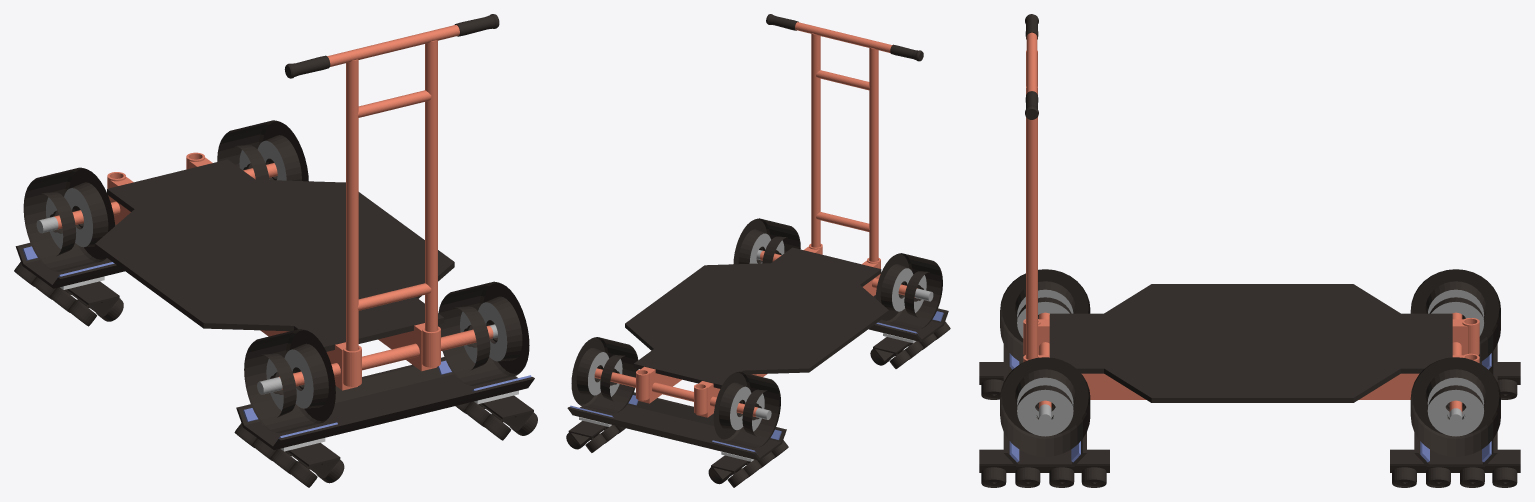
Rendered from dolly.fbx.
The picture shows the model from 3 angles, left to right: view 1: azimuth 30°, elevation 25°; view 2: azimuth 150°, elevation 25°; view 3: azimuth 270°, elevation 25°; orthographic projection. The views are drawn at different scales.
Visible parts, largest first — view 1: Plane.001, Cube.001, Circle, Circle.004, Circle.009, Circle.002, Cylinder.007, Cylinder.008, Cylinder, Cube.006, Cylinder.011, Circle.001 (+14 smaller); view 2: Plane.001, Cube.006, Circle.009, Circle.002, Circle, Circle.004, Cylinder.007, Cylinder.008, Cylinder.001, Cube.001, Cylinder.011, Circle.011 (+12 smaller); view 3: Plane.001, Circle.002, Circle.004, Circle.009, Circle, Cylinder.008, Cube.008, Circle.005, Circle.008, Plane.003, Plane.002, Cube.001 (+3 smaller).
Part boxes in pixels (left/top/right/bottom): Plane.001: left=95, top=159, right=454, bottom=351; Cube.001: left=236, top=357, right=534, bottom=449; Circle: left=244, top=329, right=335, bottom=433; Circle.004: left=438, top=281, right=529, bottom=385; Circle.009: left=23, top=167, right=114, bottom=271; Circle.002: left=217, top=120, right=308, bottom=181; Cylinder.007: left=346, top=59, right=358, bottom=351; Cylinder.008: left=425, top=40, right=437, bottom=331; Cylinder: left=257, top=324, right=497, bottom=394; Cube.006: left=15, top=224, right=124, bottom=288; Cylinder.011: left=327, top=25, right=459, bottom=66; Circle.001: left=234, top=423, right=317, bottom=487; Plane.001: left=625, top=247, right=888, bottom=388; Cube.006: left=567, top=392, right=786, bottom=460; Circle.009: left=713, top=371, right=780, bottom=448; Circle.002: left=571, top=337, right=638, bottom=413; Circle: left=875, top=253, right=942, bottom=329; Circle.004: left=733, top=218, right=800, bottom=264; Cylinder.007: left=869, top=47, right=878, bottom=261; Cylinder.008: left=811, top=33, right=820, bottom=247; Cylinder.001: left=594, top=368, right=771, bottom=419; Cube.001: left=869, top=295, right=948, bottom=341; Cylinder.011: left=795, top=22, right=892, bottom=52; Circle.011: left=728, top=440, right=788, bottom=487; Plane.001: left=1049, top=284, right=1452, bottom=402; Circle.002: left=1410, top=357, right=1500, bottom=456; Circle.004: left=1000, top=357, right=1090, bottom=456; Circle.009: left=1410, top=269, right=1500, bottom=362; Circle: left=1000, top=269, right=1090, bottom=362; Cylinder.008: left=1026, top=86, right=1037, bottom=359; Cube.008: left=1039, top=355, right=1465, bottom=399; Circle.005: left=981, top=467, right=1106, bottom=487; Circle.008: left=1392, top=467, right=1517, bottom=487; Plane.003: left=1390, top=449, right=1520, bottom=472; Plane.002: left=979, top=449, right=1109, bottom=472; Cube.001: left=1003, top=344, right=1086, bottom=466.
Bounding box in the file's own units: 1931 × 2952 × 3822.
